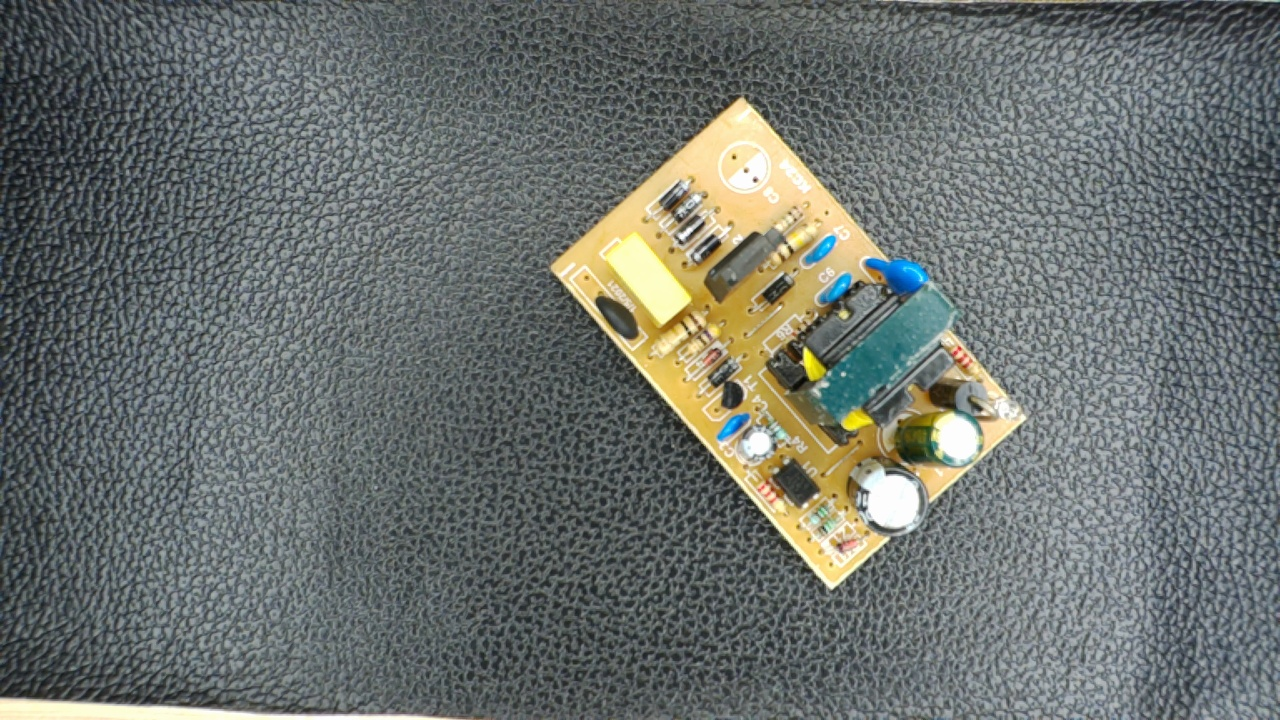fuse: (587, 287, 647, 347)
mov: (860, 252, 930, 303)
optocoupler: (762, 455, 824, 512)
